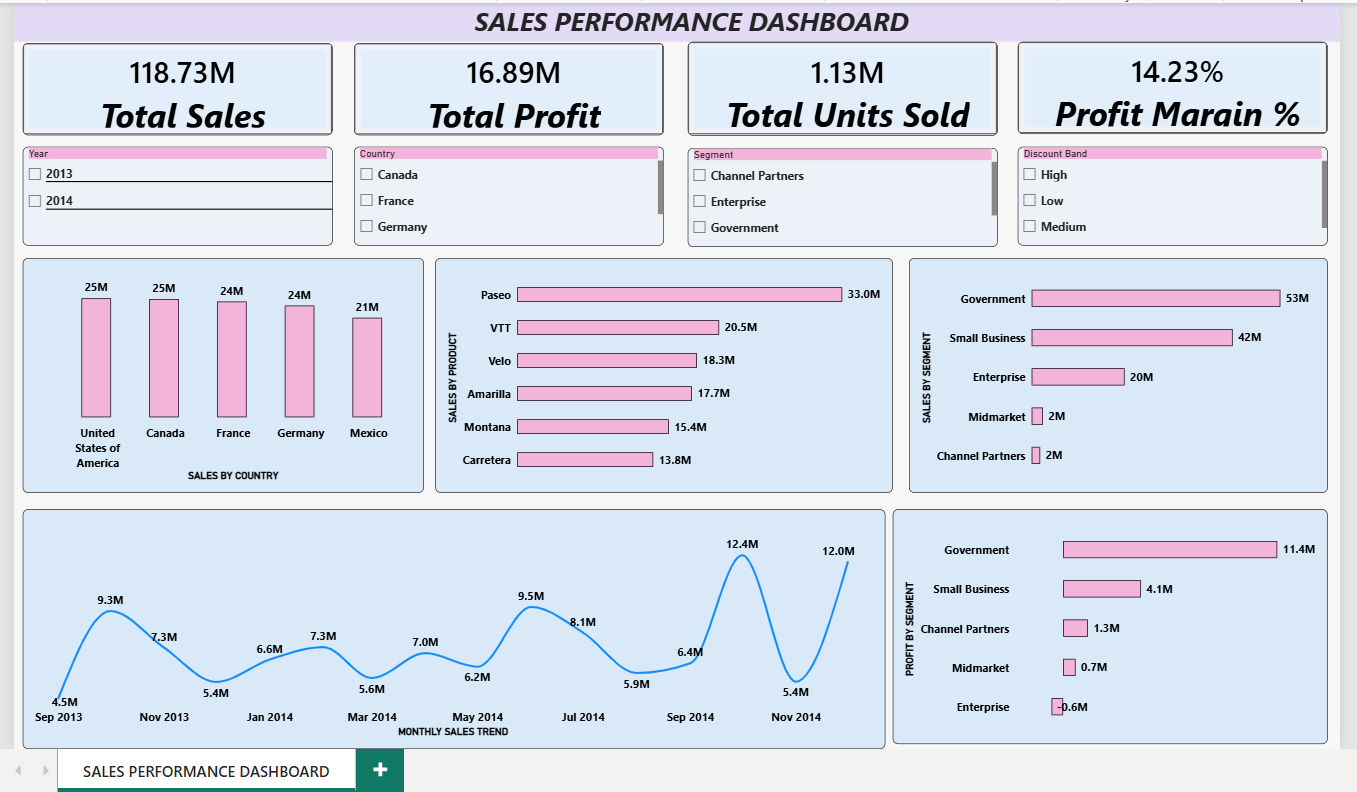

What the dashboard file says about the page in this screenshot:
{"tool":"powerbi","page":{"name":"SALES PERFORMANCE DASHBOARD","canvas":[1920,1080],"ordinal":0},"visuals":[{"type":"cardVisual","fields":{"Data":["Sheet1.Total Sales"]},"box":[12.7,57.9,448.7,133.8],"z":0},{"type":"cardVisual","fields":{"Data":["Sheet1.Total Profit"]},"box":[492.2,57.9,448.8,133.9],"z":1000},{"type":"cardVisual","fields":{"Data":["Sheet1.Total Units Sold"]},"box":[975.4,56.1,448.8,135.7],"z":2000},{"type":"cardVisual","fields":{"Data":["Sheet1.Profit Margin %"]},"box":[1453.2,56.1,448.7,133.8],"z":3000},{"type":"columnChart","fields":{"Category":["Sheet1.Country"],"Y":["Sum(Sheet1.Sales)"]},"box":[12.7,369.2,580.9,340.2],"z":4000},{"type":"barChart","fields":{"Category":["Sheet1.Product"],"Y":["Sum(Sheet1.Sales)"]},"box":[609.9,369.2,662.3,340.2],"z":5000},{"type":"barChart","fields":{"Category":["Sheet1.Segment"],"Y":["Sum(Sheet1.Sales)"]},"box":[1295.7,369.2,606.2,340.2],"z":6000},{"type":"lineChart","fields":{"Category":["Sheet1.Date.Variation.Date Hierarchy.Year","Sheet1.Date.Variation.Date Hierarchy.Quarter","Sheet1.Date.Variation.Date Hierarchy.Month","Sheet1.Date.Variation.Date Hierarchy.Day"],"Y":["Sum(Sheet1.Sales)"]},"box":[12.7,732.9,1248.7,347.5],"z":7000},{"type":"barChart","fields":{"Category":["Sheet1.Segment"],"Y":["Sum(Sheet1.Profit)"]},"box":[1272.2,732.9,629.8,340.2],"z":8000},{"type":"slicer","fields":{"Values":["Sheet1.Year"]},"box":[12.7,208.1,448.8,143],"z":9000},{"type":"slicer","fields":{"Values":["Sheet1.Country"]},"box":[492.2,208.1,448.8,143],"z":10000},{"type":"slicer","fields":{"Values":["Sheet1.Segment"]},"box":[975.4,209.9,448.8,143],"z":11000},{"type":"slicer","fields":{"Values":["Sheet1.Discount Band"]},"box":[1453.2,208.1,448.8,143],"z":12000},{"type":"textbox","box":[0,0,1920.1,56.1],"z":13000}]}

Visuals, with their boxes in screenshot pixels (x1, y1, x2, y2):
cardVisual - Sheet1.Total Sales: (12, 33, 325, 127)
cardVisual - Sheet1.Total Profit: (347, 33, 659, 127)
cardVisual - Sheet1.Total Units Sold: (683, 32, 996, 127)
cardVisual - Sheet1.Profit Margin %: (1016, 32, 1329, 125)
columnChart - Sheet1.Country x Sum(Sheet1.Sales): (12, 250, 417, 487)
barChart - Sheet1.Product x Sum(Sheet1.Sales): (429, 250, 890, 487)
barChart - Sheet1.Segment x Sum(Sheet1.Sales): (907, 250, 1329, 487)
lineChart - Sheet1.Date.Variation.Date Hierarchy.Year x Sheet1.Date.Variation.Date Hierarchy.Quarter: (12, 504, 883, 746)
barChart - Sheet1.Segment x Sum(Sheet1.Profit): (890, 504, 1329, 741)
slicer - Sheet1.Year: (12, 138, 325, 238)
slicer - Sheet1.Country: (347, 138, 659, 238)
slicer - Sheet1.Segment: (683, 139, 996, 239)
slicer - Sheet1.Discount Band: (1016, 138, 1329, 238)
textbox: (4, 0, 1342, 32)
